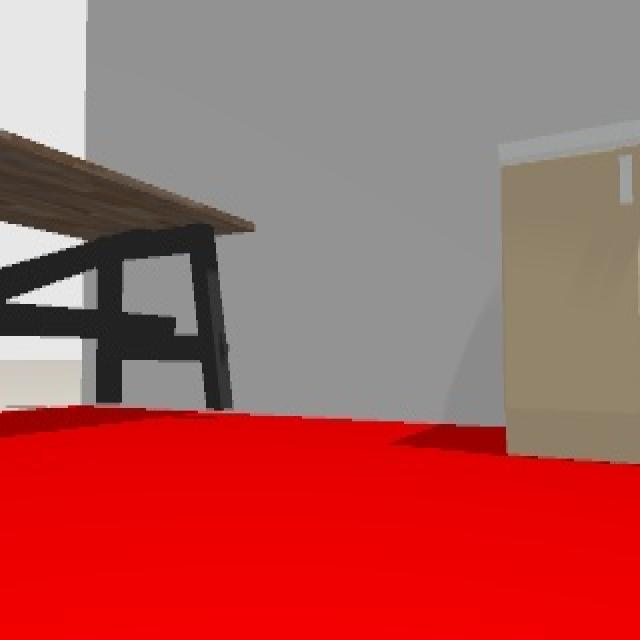dining: (1, 127, 256, 414)
